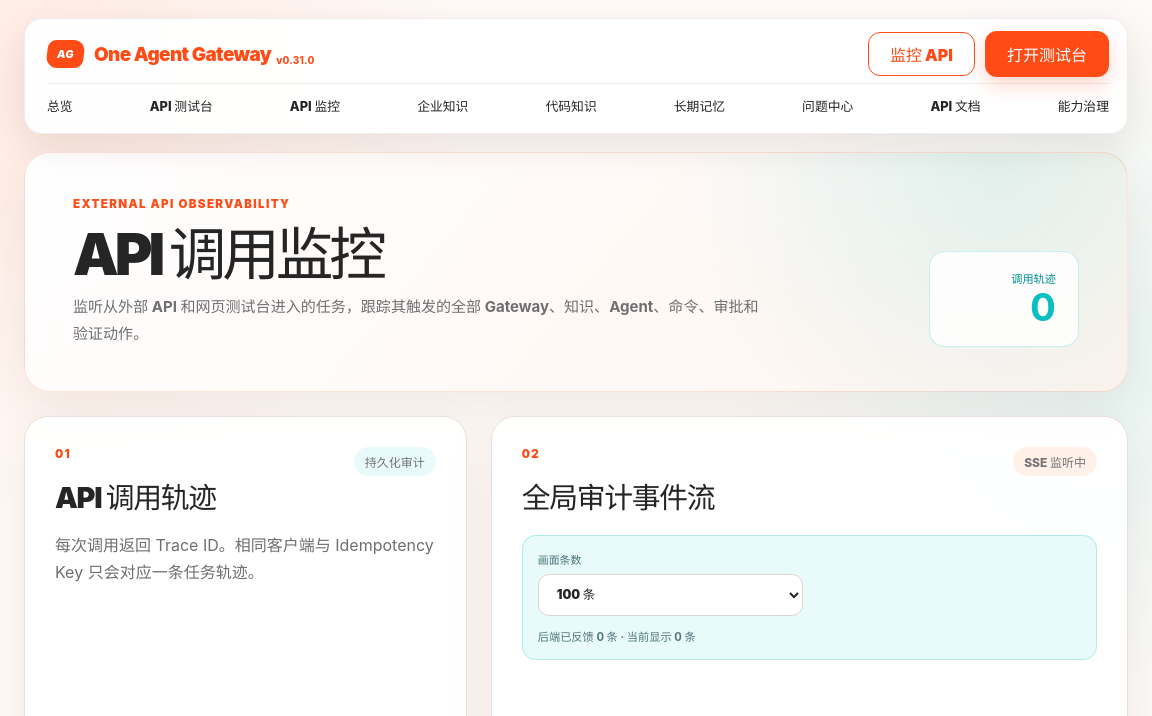
One Agent Gateway conversation page › 企業知識画面以外では実行中 Ingestion の SSE を接続しない
This screenshot has width=1152, height=716.
Check: the heading "全局审计事件流" is shown, box [522,475,714,516]
Click the link "企业知识" at (443,104), box [417,88,468,121]
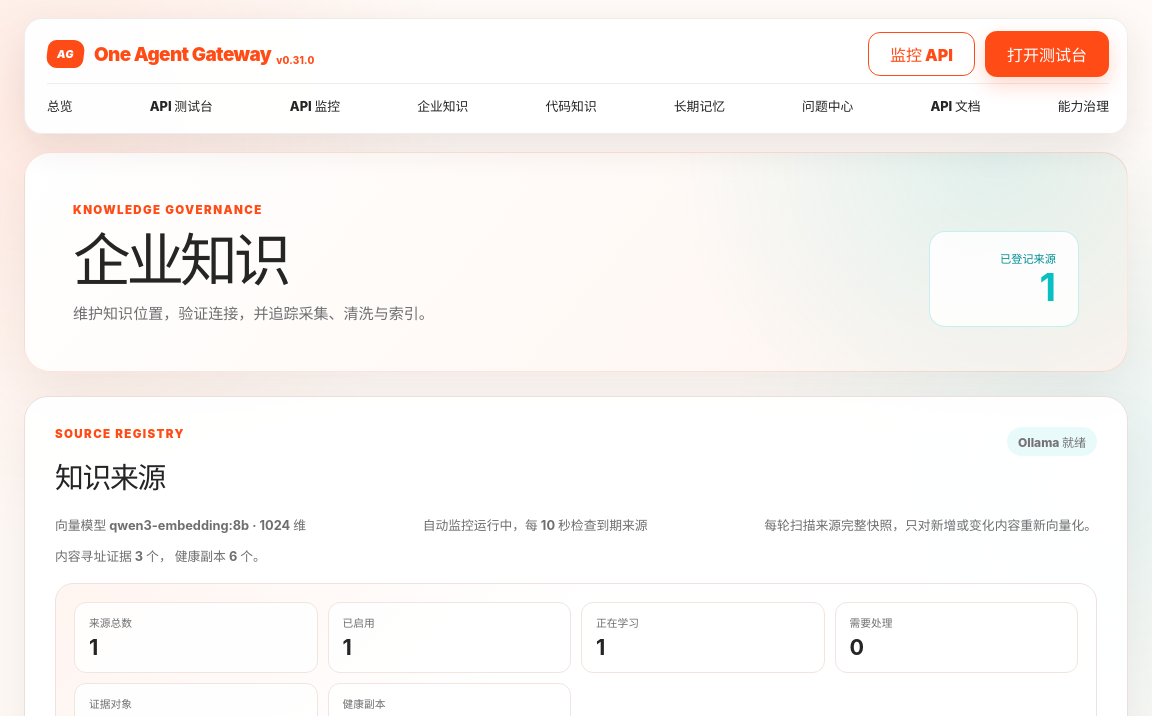
Check: the heading "知识来源" is shown, box [55,460,165,495]
Click the link "API 监控" at (315,104), box [290,88,340,121]
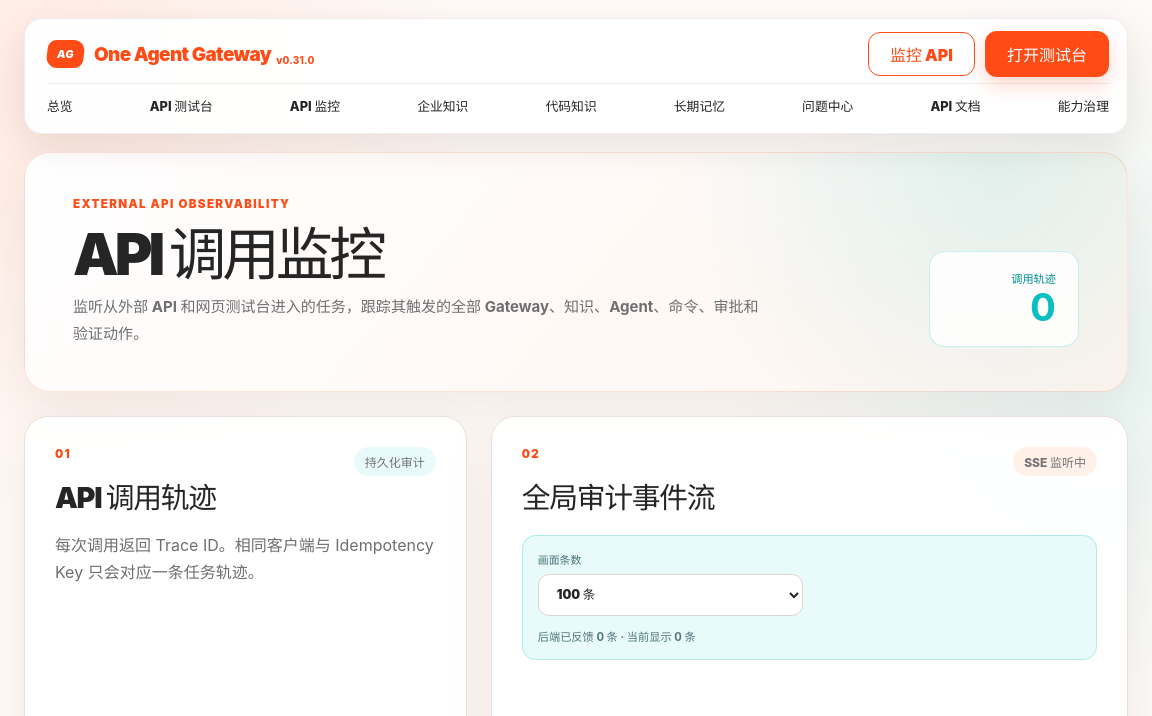
Check: the heading "全局审计事件流" is shown, box [522,475,714,516]
